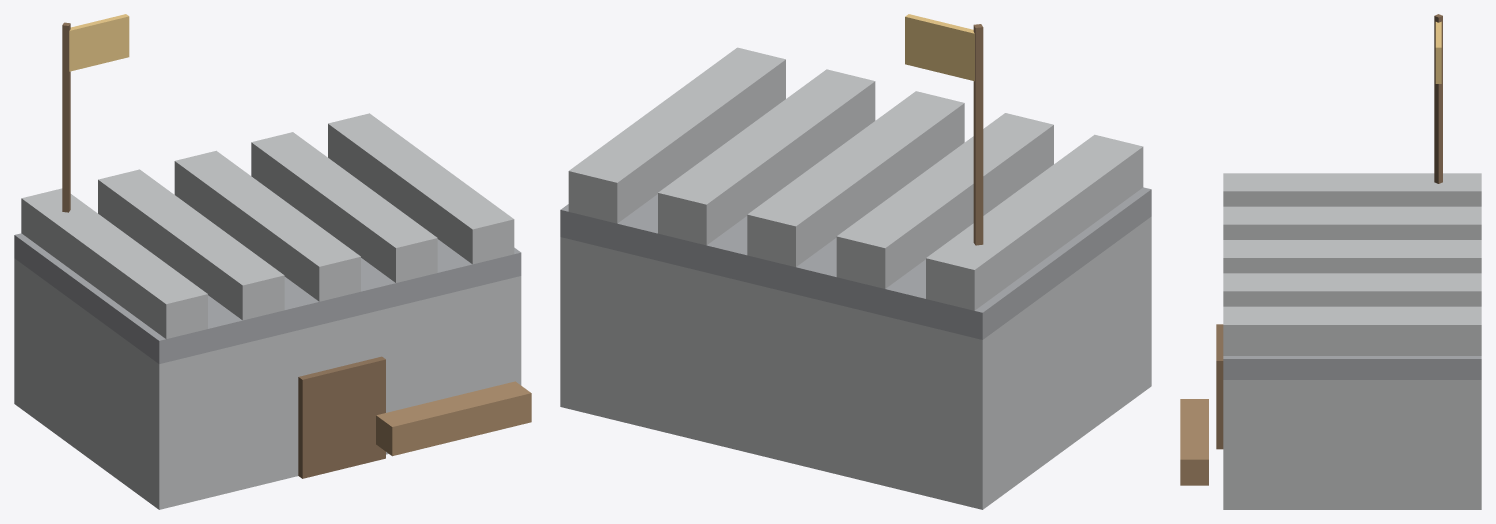
File: barracks.fbx
The picture shows the model from 3 angles, left to right: view 1: azimuth 30°, elevation 25°; view 2: azimuth 150°, elevation 25°; view 3: azimuth 270°, elevation 25°; orthographic projection. The views are drawn at different scales.
Parts seen in each view (by area): view 1: barracks; view 2: barracks; view 3: barracks.
Part boxes in pixels (left/top/right/bottom): barracks: left=14, top=14, right=531, bottom=509; barracks: left=560, top=14, right=1151, bottom=509; barracks: left=1180, top=14, right=1481, bottom=509.
Size of the model in its own units: 1.3 by 1.34 by 1.05.
